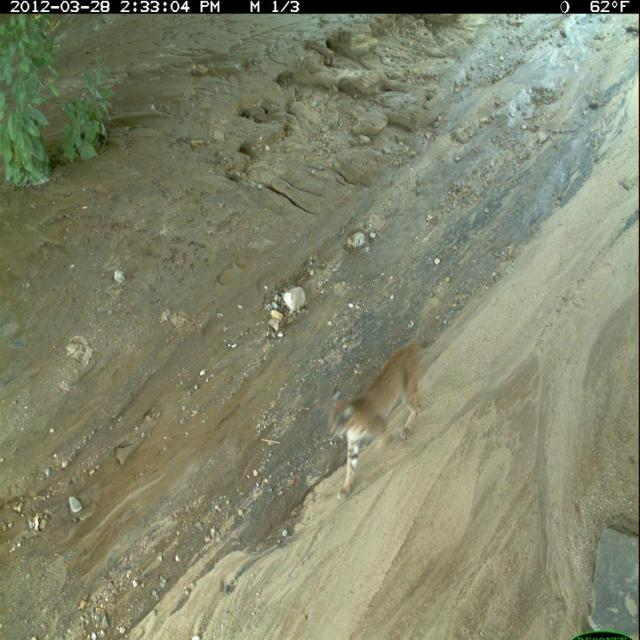bobcat: (325, 330, 436, 507)
